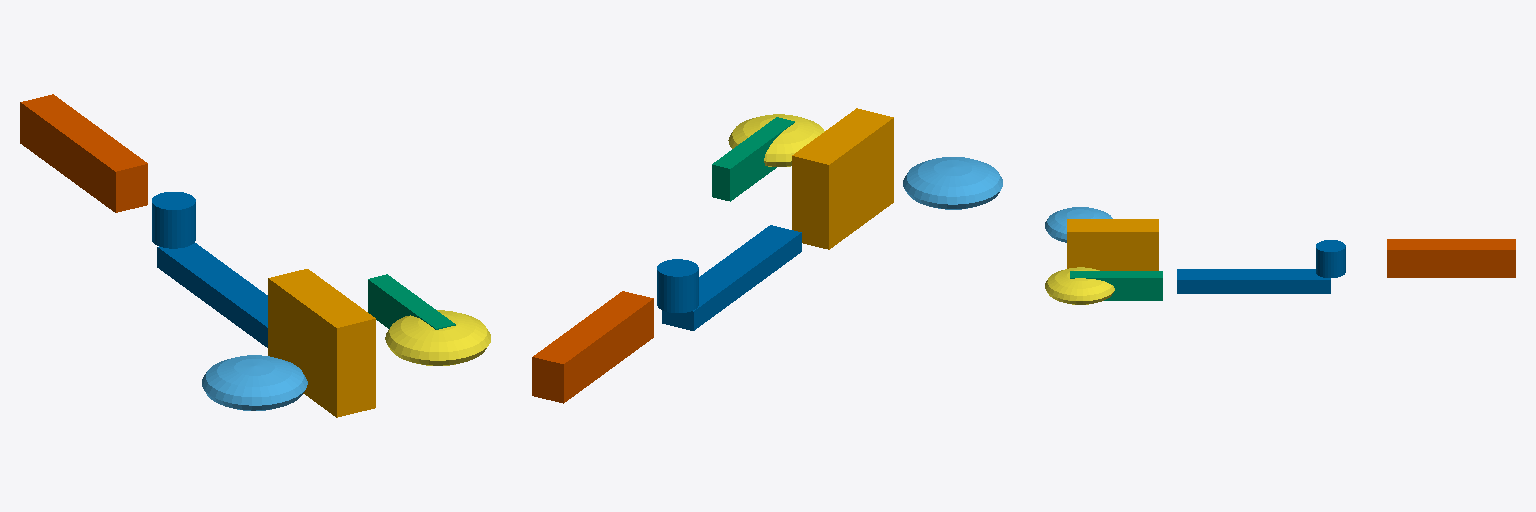
robot.urdf — sttw_source_contract:
<robot name="sttw_source_contract"><link name="chasis"><inertial><origin xyz="0.027728000000000006 0.050529400000000016 0.00070085200000000007" rpy="0 0 0" /><mass value="1.76" /><inertia ixx="0.011191307953136236" iyy="0.011332867228720254" izz="0.020958774818143518" ixy="-0.006352671613107691" ixz="0.00018343468827196655" iyz="0.0001404303055436258" /></inertial><collision name="geom_3"><origin xyz="0.025000000000000008 0.015000000000000003 0" rpy="-1.5707963267948966 0 0" /><geometry><box size="0.059999999999999998 0.13 0.17999999999999999" /></geometry></collision><visual name="geom_3"><origin xyz="0.025000000000000008 0.015000000000000003 0" rpy="-1.5707963267948966 0 0" /><geometry><box size="0.059999999999999998 0.13 0.17999999999999999" /></geometry></visual></link><link name="rearwheel"><inertial><origin xyz="0 0 0" rpy="0 0 0" /><mass value="0.17" /><inertia ixx="0.000209667" iyy="0.000209667" izz="0.0004165" ixy="0.0" ixz="0.0" iyz="0.0" /></inertial><collision name="geom_9"><origin xyz="0 0 0" rpy="0 -0 0" /><geometry><mesh filename="ellipsoid_0.07_0.07_0.025.obj" /></geometry></collision><visual name="geom_9"><origin xyz="0 0 0" rpy="0 -0 0" /><geometry><mesh filename="ellipsoid_0.07_0.07_0.025.obj" /></geometry></visual></link><joint name="rearwheel_joint" type="continuous"><parent link="chasis" /><child link="rearwheel" /><origin xyz="-0.11448000000000003 -0.049045000000000012 0.00020771000000000006" rpy="3.1415898251286083 -2.7041599954552057e-09 0.0080878104058098709" /><axis xyz="-0 -0 -1" /><limit effort="1000" velocity="1000" /><dynamics damping="0" friction="0" /></joint><link name="steer"><inertial><origin xyz="0 0 -0.029999999999999999" rpy="0 0 0" /><mass value="0.001" /><inertia ixx="2.90833e-06" iyy="2.775e-06" izz="2.83333e-07" ixy="0.0" ixz="0.0" iyz="0.0" /></inertial><collision name="geom_12"><origin xyz="0 0 -0.050000000000000003" rpy="0 -0 0" /><geometry><box size="0.029999999999999999 0.050000000000000003 0.17999999999999999" /></geometry></collision><visual name="geom_12"><origin xyz="0 0 -0.050000000000000003" rpy="0 -0 0" /><geometry><box size="0.029999999999999999 0.050000000000000003 0.17999999999999999" /></geometry></visual></link><joint name="steering_joint" type="revolute"><parent link="chasis" /><child link="steer" /><origin xyz="0.16455000000000003 0.071216000000000015 0.00020771000000000006" rpy="-1.5707963267948966 0 0" /><axis xyz="0 0 1" /><limit effort="1000" velocity="1000" lower="-0.8" upper="0.8" /><dynamics damping="0" friction="0" /></joint><link name="frontwheel"><inertial><origin xyz="0 0 0" rpy="0 0 0" /><mass value="0.13" /><inertia ixx="0.000160333" iyy="0.000160333" izz="0.0003185" ixy="0.0" ixz="0.0" iyz="0.0" /></inertial><collision name="geom_15"><origin xyz="0 0 0" rpy="0 -0 0" /><geometry><mesh filename="ellipsoid_0.07_0.07_0.025.obj" /></geometry></collision><visual name="geom_15"><origin xyz="0 0 0" rpy="0 -0 0" /><geometry><mesh filename="ellipsoid_0.07_0.07_0.025.obj" /></geometry></visual></link><joint name="frontwheel_joint" type="continuous"><parent link="steer" /><child link="frontwheel" /><origin xyz="0 0 -0.12" rpy="-1.5707991563969488 -0.080424963693946958 -2.7689112222187148e-08" /><axis xyz="-0 -0 -1" /><limit effort="1000" velocity="1000" /><dynamics damping="0" friction="0" /></joint><link name="downarm"><inertial><origin xyz="7.8061500000000001e-08 -0.0151047 0.25521100000000002" rpy="0 0 0" /><mass value="0.72" /><inertia ixx="0.00529195999997338" iyy="0.004960687061410297" izz="0.0005655499386163233" ixy="-2.3932234804927245e-09" ixz="1.1210378594037501e-08" iyz="0.0009830905318523547" /></inertial><collision name="geom_18"><origin xyz="0 0.02 0.14999999999999999" rpy="0 -0 0" /><geometry><box size="0.050000000000000003 0.029999999999999999 0.29999999999999999" /></geometry></collision><visual name="geom_18"><origin xyz="0 0.02 0.14999999999999999" rpy="0 -0 0" /><geometry><box size="0.050000000000000003 0.029999999999999999 0.29999999999999999" /></geometry></visual><collision name="geom_19"><origin xyz="0 -0.028000000000000001 0.29999999999999999" rpy="-1.5707963267948966 0 0" /><geometry><cylinder radius="0.029" length="0.056" /></geometry></collision><visual name="geom_19"><origin xyz="0 -0.028000000000000001 0.29999999999999999" rpy="-1.5707963267948966 0 0" /><geometry><cylinder radius="0.029" length="0.056" /></geometry></visual></link><joint name="hip_joint" type="revolute"><parent link="chasis" /><child link="downarm" /><origin xyz="0.044499000000000004 0.13903000000000001 -0.025292000000000005" rpy="-1.5707963267948966 0 0" /><axis xyz="0 1 0" /><limit effort="1000" velocity="1000" lower="-1.3" upper="0.5" /><dynamics damping="0" friction="0" /></joint><link name="uparm"><inertial><origin xyz="7.5803400000000002e-08 0.033473999999999997 -0.29174" rpy="0 0 0" /><mass value="2.31" /><inertia ixx="0.005248399999967377" iyy="0.005905769274256628" izz="0.0016259907257759937" ixy="-1.5036928079299004e-09" ixz="-1.2984884338374748e-08" iyz="0.0004614123522065082" /></inertial><collision name="geom_23"><origin xyz="0 0.029999999999999999 -0.23499999999999999" rpy="0 -0 0" /><geometry><box size="0.050000000000000003 0.059999999999999998 0.25" /></geometry></collision><visual name="geom_23"><origin xyz="0 0.029999999999999999 -0.23499999999999999" rpy="0 -0 0" /><geometry><box size="0.050000000000000003 0.059999999999999998 0.25" /></geometry></visual></link><joint name="knee_joint" type="revolute"><parent link="downarm" /><child link="uparm" /><origin xyz="0 -0.059549999999999999 0.29999999999999999" rpy="3.1415926535897931 -0 3.1415926535897931" /><axis xyz="0 1 0" /><limit effort="1000" velocity="1000" lower="-1.5" upper="2.5" /><dynamics damping="0" friction="0" /></joint></robot>

--- Facts derived from the render (not from the file) ---
The picture shows the robot from 3 angles, left to right: view 1: azimuth 30°, elevation 25°; view 2: azimuth 150°, elevation 25°; view 3: azimuth 270°, elevation 25°; orthographic projection.
Model sttw_source_contract with 6 links and 5 joints (3 revolute, 2 continuous), rooted at chasis, posed every joint at zero.
Links seen in each view (by area): view 1: chasis, uparm, downarm, rearwheel, frontwheel, steer; view 2: chasis, uparm, downarm, rearwheel, steer, frontwheel; view 3: uparm, downarm, chasis, steer, frontwheel, rearwheel.
Link boxes in pixels (box(x1,y1,x2,y2)): chasis: box(268, 269, 375, 417); uparm: box(20, 94, 147, 212); downarm: box(152, 192, 267, 347); rearwheel: box(202, 355, 307, 410); frontwheel: box(385, 310, 490, 365); steer: box(368, 274, 455, 329); chasis: box(792, 108, 893, 249); uparm: box(532, 291, 653, 403); downarm: box(657, 225, 801, 330); rearwheel: box(903, 157, 1002, 209); steer: box(712, 117, 794, 201); frontwheel: box(728, 114, 824, 166); uparm: box(1387, 239, 1515, 277); downarm: box(1177, 240, 1345, 293); chasis: box(1067, 219, 1158, 270); steer: box(1070, 271, 1162, 300); frontwheel: box(1045, 267, 1114, 304); rearwheel: box(1045, 207, 1112, 242).
Size in the robot's own frame: 0.4188 by 0.9181 by 0.13 metres.
Meshes: 1 distinct files referenced, 2 mesh visuals loaded (1 OBJ).
